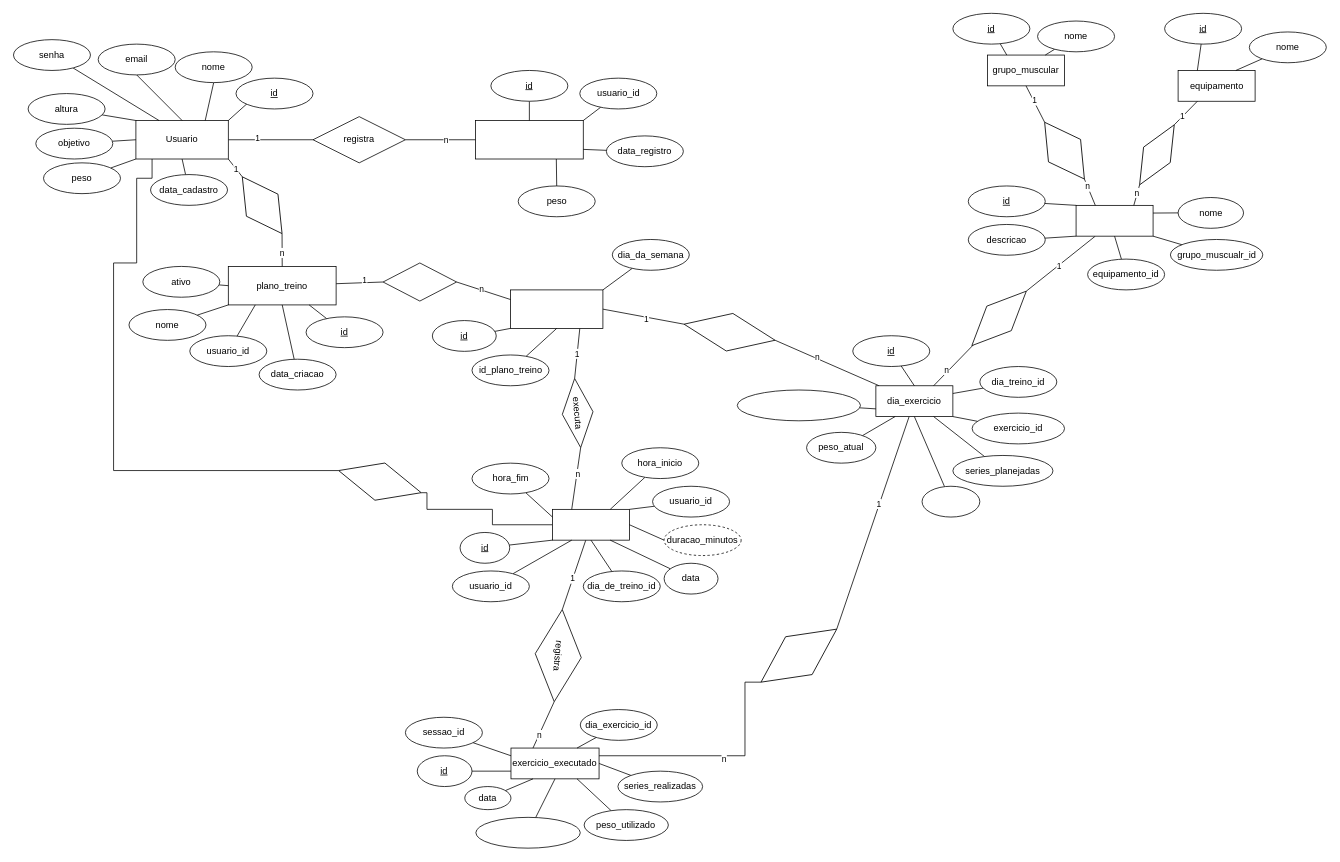
Image size: 1340x862. Some labels were removed from this diagram. The centre of each missing label's shape, as x and y in pixels:
"contém" goes at point 729,332.
"cria" goes at point 262,205.
"detalha" goes at point 798,655.
"dia_treino" goes at point 556,308.
"divide em" goes at point 419,281.
"exercicio" goes at point 1114,220.
"historico_peso_usuario" goes at point 529,139.
"ordem" goes at point 950,501.
"pertence a" goes at point 1064,150.
"realiza" goes at point 379,481.
"referencia" goes at point 999,318.
"repeticeos_planejadas" goes at point 798,405.
"repeticoes_realizadas" goes at point 527,832.
"sessao" goes at point 590,524.
"utiliza" goes at point 1156,154.
